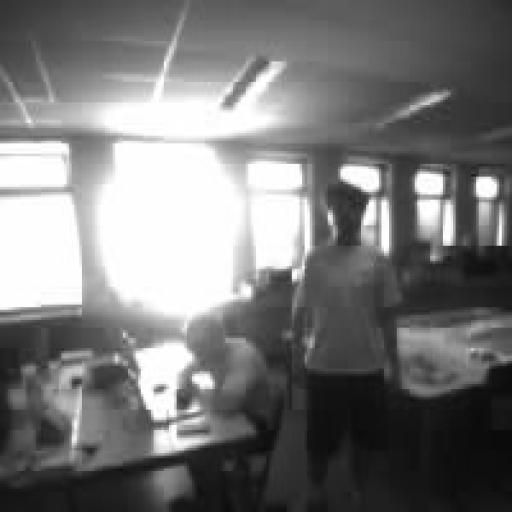human: (292, 182, 401, 511), (180, 313, 273, 437)
